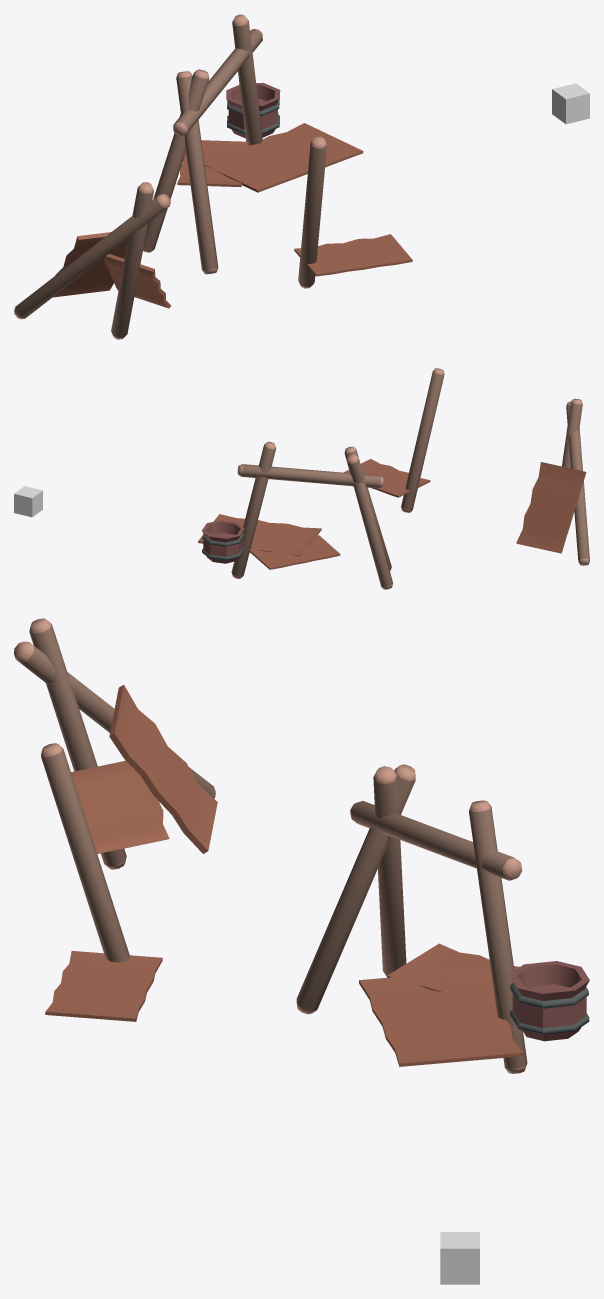
File: start cutscene environment.fbx
3 renders of one model, top to bottom at view 1: azimuth 30°, elevation 25°; view 2: azimuth 150°, elevation 25°; view 3: azimuth 270°, elevation 25°, orthographic. The views are drawn at different scales.
Parts seen in each view (by area): view 1: Plane.003, Cube.006, Cube.010, Plane.001, Cube.003, Cube.009, Cube.005, Cube.004, Plane.005, Cube.007, Cube.008, Plane.002 (+2 smaller); view 2: Plane.005, Cube.003, Plane.003, Cube.007, Cube.004, Cube.008, Cube.005, Plane.002, Cube.010, Plane.001, Cube, Cube.009 (+1 smaller); view 3: Plane.003, Plane.005, Plane.004, Plane.001, Cube.003, Cube.008, Cube.006, Cube.004, Cube.005, Cube.007, Cube.009, Plane.002 (+2 smaller).
Boxes of the visible parts, box(x1,y1,x2,y2) form: Plane.003: box(204, 123, 363, 192); Cube.006: box(176, 71, 218, 274); Cube.010: box(14, 194, 170, 319); Plane.001: box(294, 234, 412, 276); Cube.003: box(298, 136, 326, 288); Cube.009: box(111, 182, 153, 339); Cube.005: box(143, 69, 209, 252); Cube.004: box(232, 14, 262, 145); Plane.005: box(53, 232, 127, 297); Cube.007: box(173, 29, 262, 136); Cube.008: box(226, 82, 280, 138); Plane.002: box(177, 140, 248, 186); Plane.005: box(516, 462, 586, 553); Cube.003: box(401, 368, 444, 512); Plane.003: box(198, 514, 321, 556); Cube.007: box(237, 464, 383, 488); Cube.004: box(231, 441, 276, 578); Cube.008: box(202, 520, 244, 563); Cube.005: box(344, 446, 392, 589); Plane.002: box(249, 535, 340, 569); Cube.010: box(566, 401, 589, 565); Plane.001: box(343, 459, 430, 497); Cube: box(14, 486, 42, 517); Cube.009: box(562, 398, 582, 468); Plane.003: box(359, 969, 523, 1066); Plane.005: box(109, 685, 217, 853); Plane.004: box(71, 760, 169, 853); Plane.001: box(45, 951, 162, 1021); Cube.003: box(41, 743, 129, 962); Cube.008: box(509, 961, 589, 1041); Cube.006: box(296, 764, 415, 1014); Cube.004: box(469, 800, 527, 1073); Cube.005: box(373, 766, 406, 976); Cube.007: box(350, 801, 522, 880); Cube.009: box(29, 618, 126, 869); Plane.002: box(387, 943, 519, 998).
Bounding box in the file's own units: 5475 × 1571 × 2905.
